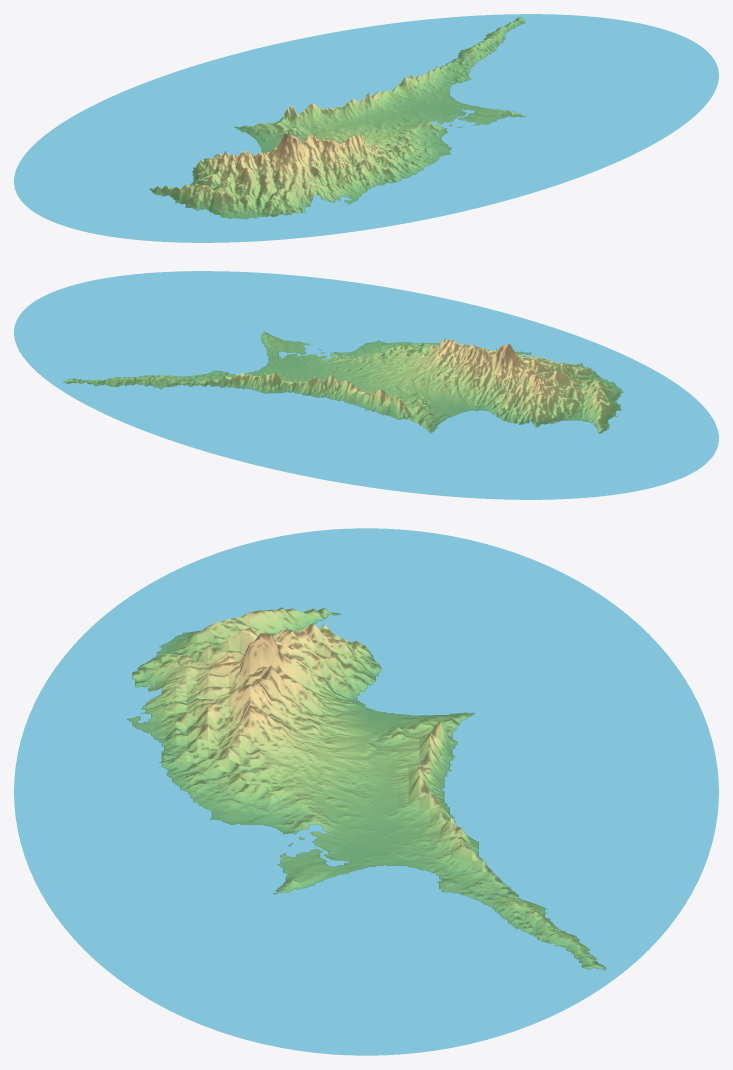
The model's file is CYP-terrain.glb.
The picture shows the model from 3 angles, top to bottom: view 1: azimuth 30°, elevation 25°; view 2: azimuth 150°, elevation 25°; view 3: azimuth 270°, elevation 25°; orthographic projection. The views are drawn at different scales.
Parts seen in each view (by area): view 1: Relevo com hidrografia; view 2: Relevo com hidrografia; view 3: Relevo com hidrografia.
Boxes of the visible parts, x1=… form: Relevo com hidrografia: x1=14, y1=14, x2=718, y2=242; Relevo com hidrografia: x1=14, y1=271, x2=718, y2=499; Relevo com hidrografia: x1=14, y1=528, x2=718, y2=1055.
Size of the model in its own units: 2.35 by 0.1484 by 1.33.
2 materials, 1 textured.
